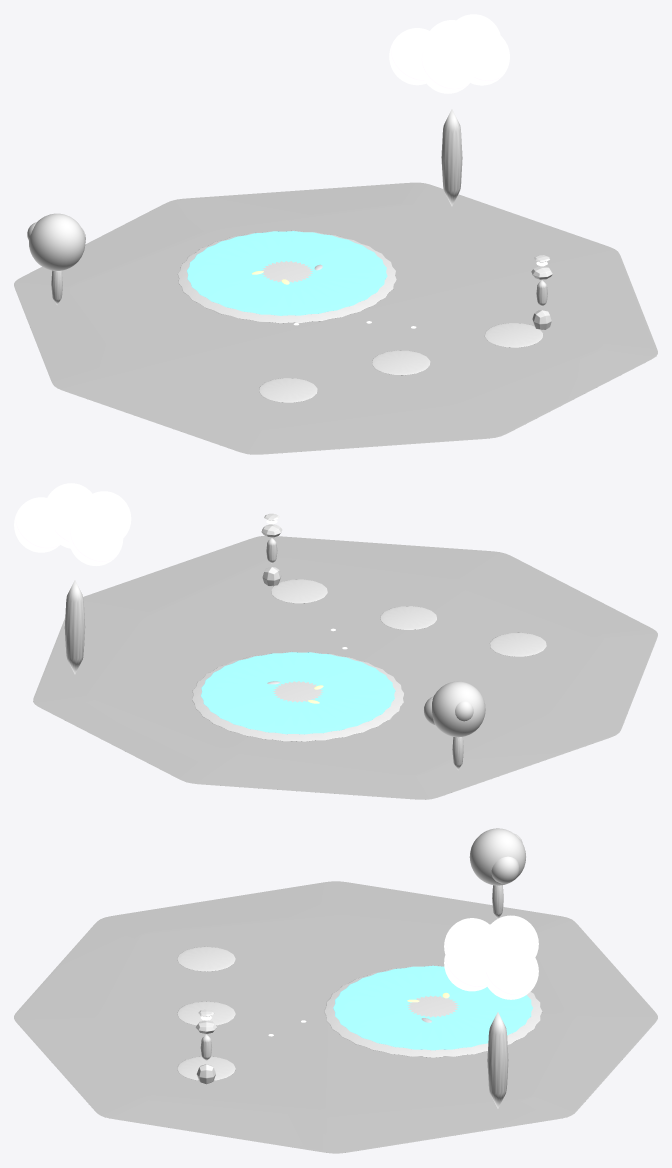
File: subarea_sage_garden_r2_v3.glb
The picture shows the model from 3 angles, top to bottom: view 1: azimuth 30°, elevation 25°; view 2: azimuth 150°, elevation 25°; view 3: azimuth 270°, elevation 25°; orthographic projection. The views are drawn at different scales.
Visible parts, largest first — view 1: soil, pond_water, pond_rim, bonsai_top, cherry_4, cherry_3, cherry_2, cherry_trunk, path_0, path_1, path_2; view 2: soil, pond_water, pond_rim, cherry_2, bonsai_top, cherry_1, cherry_trunk, cherry_0, path_2, path_0, path_1, cherry_4; view 3: soil, pond_water, pond_rim, cherry_1, cherry_3, bonsai_top, cherry_trunk, path_0, path_1, path_2, cherry_0, cherry_2 (+2 smaller).
Boxes of the visible parts, <box> form: soil: <box>14,182,657,454</box>; pond_water: <box>187,231,387,315</box>; pond_rim: <box>177,230,396,323</box>; bonsai_top: <box>29,213,85,270</box>; cherry_4: <box>420,36,474,93</box>; cherry_3: <box>463,28,509,85</box>; cherry_2: <box>389,28,432,85</box>; cherry_trunk: <box>441,109,462,206</box>; path_0: <box>259,378,317,402</box>; path_1: <box>372,350,430,375</box>; path_2: <box>484,323,542,347</box>; soil: <box>33,535,657,799</box>; pond_water: <box>201,652,395,734</box>; pond_rim: <box>192,651,404,741</box>; cherry_2: <box>68,510,123,565</box>; bonsai_top: <box>432,681,485,737</box>; cherry_1: <box>14,497,59,552</box>; cherry_trunk: <box>64,580,85,674</box>; cherry_0: <box>53,493,96,548</box>; path_2: <box>271,579,327,603</box>; path_0: <box>490,632,546,656</box>; path_1: <box>380,606,436,629</box>; cherry_4: <box>88,491,131,537</box>; soil: <box>14,881,657,1153</box>; pond_water: <box>333,965,532,1050</box>; pond_rim: <box>324,965,542,1057</box>; cherry_1: <box>485,943,538,999</box>; cherry_3: <box>444,934,493,991</box>; bonsai_top: <box>469,828,525,885</box>; cherry_trunk: <box>487,1012,508,1108</box>; path_0: <box>177,946,235,971</box>; path_1: <box>177,1001,235,1025</box>; path_2: <box>177,1056,235,1080</box>; cherry_0: <box>476,923,525,948</box>; cherry_2: <box>491,915,538,957</box>.
Bounding box in the file's own units: 9.94 × 3.24 × 9.94.
